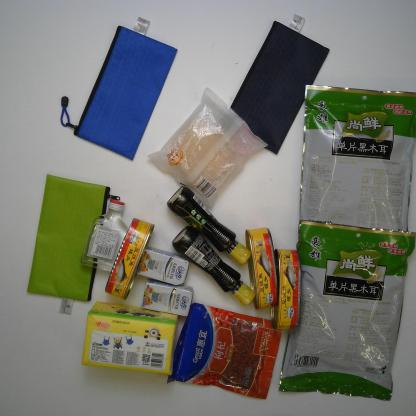Alcohol: (78, 197, 130, 274)
Canned Food: (102, 216, 156, 303), (244, 225, 280, 312), (269, 246, 304, 333)
Dessert: (144, 85, 270, 212)
Dried Food: (276, 215, 416, 403), (296, 79, 416, 241)
Dried Fruit: (165, 299, 285, 401)
Milk: (133, 244, 192, 288), (140, 277, 195, 318)
Seasoner: (164, 184, 253, 268), (169, 224, 258, 308)
Stationery: (55, 13, 181, 164), (212, 10, 333, 160), (24, 171, 125, 317)
Tissue: (78, 299, 182, 377)
